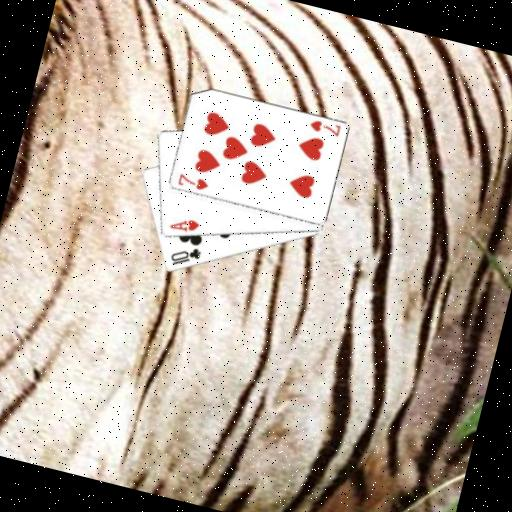10C: (165, 239, 204, 272)
7H: (174, 170, 211, 193), (306, 116, 343, 139)
AH: (166, 212, 202, 237)
